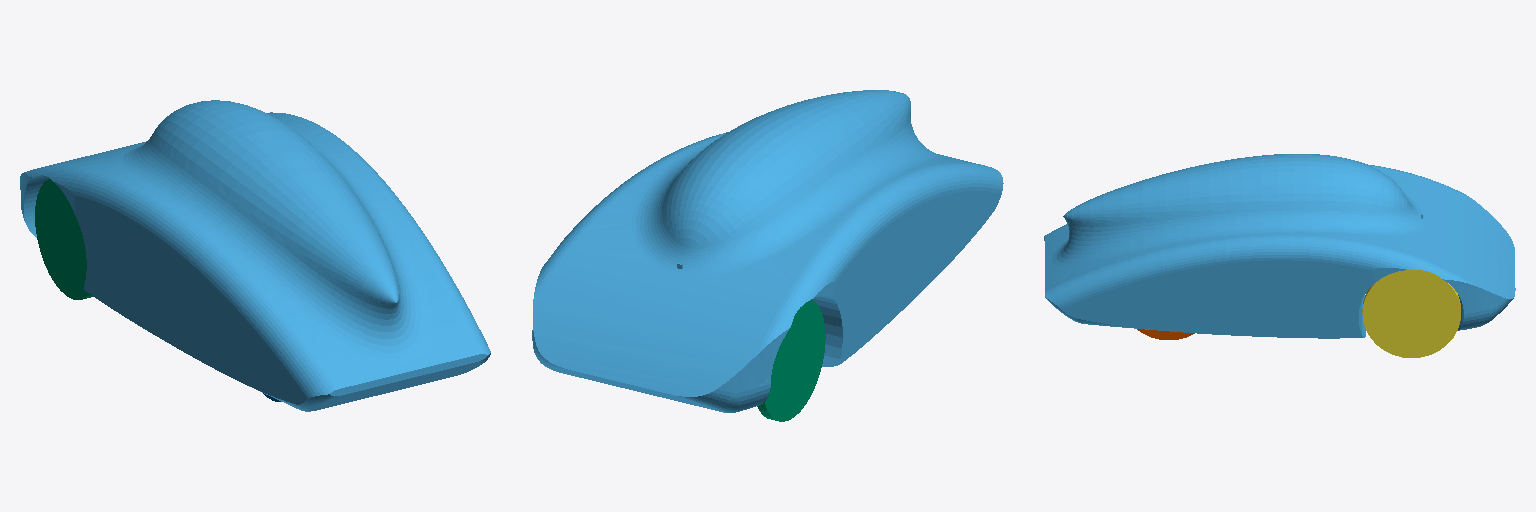
URDF robot description (angelshark):
<?xml version="1.0" ?>
<robot name="angelshark">
  
  <link name="pars__base_link"></link>
  <link name="pars__body">
    <inertial>
      <mass value="92.0"/>
      <origin rpy="0 0 0" xyz="0  0  0.6"/>
      <inertia ixx="0.7" ixy="0" ixz="0" iyy="0.2" iyz="0" izz="0.8"/>
    </inertial>
    <collision name="pars__base_link_inertia_collision">
      <origin rpy="0 0 1.5707" xyz="0   0   0.13"/>
      <geometry>
        <mesh filename="package://angelshark_sim/models/angelshark/meshes/pars.stl" scale="0.16 0.16 0.16"/>
      </geometry>
    </collision>
    <visual name="pars__base_link_inertia_visual">
      <origin rpy="0 0 1.5707" xyz="0   0   0.13"/>
      <geometry>
        <mesh filename="package://angelshark_sim/models/angelshark/meshes/pars.stl" scale="0.16 0.16 0.16"/>
      </geometry>
    </visual>
  </link>
  <link name="pars__front_left_wheel">
    <inertial>
      <mass value="1.0"/>
      <origin rpy="0 0 0" xyz="0 0 0"/>
      <inertia ixx="0.03" ixy="0.00" ixz="0.00" iyy="0.03" iyz="0.00" izz="0.058"/>
    </inertial>
    <collision name="pars__collision">
      <origin rpy="0 0 0" xyz="0 0 0"/>
      <geometry>
        <cylinder length=".05" radius=".2932"/>
      </geometry>
    </collision>
    <visual name="pars__visual">
      <origin rpy="0 0 0" xyz="0 0 0"/>
      <geometry>
        <cylinder length=".05" radius=".2932"/>
      </geometry>
    </visual>
  </link>
  <link name="pars__front_right_wheel">
    <inertial>
      <mass value="1.0"/>
      <origin rpy="0 0 0" xyz="0 0 0"/>
      <inertia ixx="0.03" ixy="0.00" ixz="0.00" iyy="0.03" iyz="0.00" izz="0.058"/>
    </inertial>
    <collision name="pars__collision">
      <origin rpy="0 0 0" xyz="0 0 0"/>
      <geometry>
        <cylinder length=".05" radius=".2932"/>
      </geometry>
    </collision>
    <visual name="pars__visual">
      <origin rpy="0 0 0" xyz="0 0 0"/>
      <geometry>
        <cylinder length=".05" radius=".2932"/>
      </geometry>
    </visual>
  </link>
  <link name="pars__rear_left_wheel">
    <inertial>
      <mass value="2.0"/>
      <origin rpy="0 0 0" xyz="0 0 0"/>
      <inertia ixx="0.03" ixy="0.00" ixz="0.00" iyy="0.03" iyz="0.00" izz="0.058"/>
    </inertial>
    <collision name="pars__collision">
      <origin rpy="0 0 0" xyz="0 0 0"/>
      <geometry>
        <cylinder length=".05" radius=".2932"/>
      </geometry>
    </collision>
    <visual name="pars__visual">
      <origin rpy="0 0 0" xyz="0 0 0"/>
      <geometry>
        <cylinder length=".05" radius=".2932"/>
      </geometry>
    </visual>
  </link>
  <link name="pars__rear_right_wheel">
    <inertial>
      <mass value="2.0"/>
      <origin rpy="0 0 0" xyz="0 0 0"/>
      <inertia ixx="0.03" ixy="0.00" ixz="0.00" iyy="0.03" iyz="0.00" izz="0.058"/>
    </inertial>
    <collision name="pars__collision">
      <origin rpy="0 0 0" xyz="0 0 0"/>
      <geometry>
        <cylinder length=".05" radius=".2932"/>
      </geometry>
    </collision>
    <visual name="pars__visual">
      <origin rpy="0 0 0" xyz="0 0 0"/>
      <geometry>
        <cylinder length=".05" radius=".2932"/>
      </geometry>
    </visual>
  </link>
  <link name="pars__FLwheel_steer">
    <inertial>
      <mass value="1.0"/>
      <origin rpy="0 0 0" xyz="0 0 0"/>
      <inertia ixx="0.03" ixy="0.00" ixz="0.00" iyy="0.03" iyz="0.00" izz="0.058"/>
    </inertial>
  </link>
  <link name="pars__FRwheel_steer">
    <inertial>
      <mass value="1.0"/>
      <origin rpy="0 0 0" xyz="0 0 0"/>
      <inertia ixx="0.03" ixy="0.00" ixz="0.00" iyy="0.03" iyz="0.00" izz="0.058"/>
    </inertial>
  </link>
  <!-- Laser scanner -->
  <link name="laser">
    <inertial>
      <mass value="0.130" />
      <origin xyz="0 0 0" rpy="0 0 0" />
      <inertia ixx="4E-06" ixy="0" ixz="0" iyy="4E-06" iyz="0" izz="4E-06" />
    </inertial>
    <collision>
      <origin xyz="0 0 0" rpy="0 0 0"/>
      <geometry>
        <box size="0.1 0.1 0.1"/>
      </geometry>
    </collision>
    <visual>
      <origin xyz="0 0 0" rpy="0 0 0"/>
      <geometry>
        <mesh filename="package://angelshark_sim/models/hokuyo/meshes/hokuyo.dae"/>
        <material name="grey" />
      </geometry>
    </visual>
  </link>
  <!-- Camera -->
  <link name="camera_link">
    <inertial>
      <mass value="1e-5" />
      <origin xyz="0 0 0" rpy="0 0 0"/>
      <inertia ixx="1e-6" ixy="0" ixz="0" iyy="1e-6" iyz="0" izz="1e-6" />
    </inertial>
    <collision>
      <origin xyz="0 0 0" rpy="0 0 0"/>
      <geometry>
        <box size="0.009 0.023 0.023"/>
      </geometry>
    </collision>
    <visual>
      <origin xyz="0 0 0" rpy="0 0 0"/>
      <geometry>
        <box size="0.009 0.023 0.023"/>
      </geometry>
      <material name="green"/>
    </visual>
  </link>
  
  <joint name="pars__base_joint" type="fixed">
    <parent link="pars__base_link"/>
    <child link="pars__body"/>
    <origin xyz="0.0 0.0 0.0" rpy="0 0 0"/>
    <axis xyz="0 1 0" />
  </joint>
  <joint name="pars__jFRsteer" type="revolute">
    <parent link="pars__body"/>
    <child link="pars__FRwheel_steer"/>
    <origin rpy="0     1.5707 0" xyz="0.55 0.74 0.3"/>
    <axis xyz="1 0 0"/>
    <limit effort="10.0" lower="-0.5235987756" upper="0.5235987756" velocity="30"/>
  </joint>
  <joint name="pars__jFLsteer" type="revolute">
    <parent link="pars__body"/>
    <child link="pars__FLwheel_steer"/>
    <origin rpy="0     1.5707 0" xyz="-0.55  0.74  0.3"/>
    <axis xyz="1 0 0"/>
    <limit effort="10.0" lower="-0.5235987756" upper="0.5235987756" velocity="30"/>
  </joint>
  <joint name="pars__jFR" type="continuous">
    <parent link="pars__FRwheel_steer"/>
    <child link="pars__front_right_wheel"/>
    <origin rpy="0 0 0" xyz="0 0 0"/>
    <axis xyz="0 0 -1"/>
    <limit effort="1000" velocity="30"/>
  </joint>
  <joint name="pars__jFL" type="continuous">
    <parent link="pars__FLwheel_steer"/>
    <child link="pars__front_left_wheel"/>
    <origin rpy="0 0 0" xyz="0 0 0"/>
    <axis xyz="0 0 -1"/>
    <limit effort="1000" velocity="30"/>
  </joint>
  <joint name="pars__jRR" type="continuous">
    <parent link="pars__body"/>
    <child link="pars__rear_right_wheel"/>
    <origin rpy="0     1.5707 0" xyz="0.3 -0.7  0.3"/>
    <axis xyz="0 0 -1"/>
    <limit effort="1000" velocity="30"/>
  </joint>
  <joint name="pars__jRL" type="continuous">
    <parent link="pars__body"/>
    <child link="pars__rear_left_wheel"/>
    <origin rpy="0     1.5707 0" xyz="-0.3 -0.7  0.3"/>
    <axis xyz="0 0 -1"/>
    <limit effort="1000" velocity="30"/>
  </joint>
  <joint name="hokuyo_joint" type="fixed">
    <parent link="pars__body" />
    <child link="laser" />
    <origin xyz="0.0 1.27 0.4" rpy="0 0 1.5707963268"/>
    <axis xyz="0 0 1" />
  </joint>
  <joint name="camera_joint" type="fixed">
    <parent link="pars__body"/>
    <child link="camera_link"/>
    <origin xyz="0.0 0.8 0.67" rpy="0 0 1.5707963268"/>
    <axis xyz="0 1 0" />
  </joint>
  
  <!--                GAZEBO RELATED PART                             -->
  <!-- ROS plugins for Gazebo -->
  <gazebo>
    <plugin name="gazebo_ros_control" filename="libgazebo_ros_control.so">
      <robotNamespace>/angelshark</robotNamespace>
      <robotSimType>gazebo_ros_control/DefaultRobotHWSim</robotSimType>
    </plugin>
    <plugin name="imu_plugin" filename="libgazebo_ros_imu.so">
      <alwaysOn>true</alwaysOn>
      <bodyName>pars__body</bodyName>
      <topicName>angelshark/imu</topicName>
      <serviceName>imu_service</serviceName>
      <gaussianNoise>0.0</gaussianNoise>
      <updateRate>20.0</updateRate>
    </plugin>
  </gazebo>
  <gazebo reference="laser">
    <material>Gazebo/Black</material>
    <sensor type="ray" name="hokuyo_sensor">
      <pose>0 0 0.0124 0 0 0</pose>
      <visualize>false</visualize>
      <update_rate>10</update_rate>
      <ray>
        <scan>
          <horizontal>
            <samples>190</samples>
            <resolution>1</resolution>
            <min_angle>-1.6580627894</min_angle>
            <max_angle>1.6580627894</max_angle>
          </horizontal>
        </scan>
        <range>
          <min>0.15</min>
          <max>12.0</max>
          <resolution>0.01</resolution>
        </range>
        <noise>
          <mean>0.0</mean>
          <stddev>0.01</stddev>
        </noise>
      </ray>
      <plugin name="gazebo_ros_hokuyo_controller" filename="libgazebo_ros_laser.so">
        <topicName>/angelshark/scan</topicName>
        <frameName>laser</frameName>
      </plugin>
    </sensor>
  </gazebo>
  <gazebo reference="camera_link">
    <sensor type="camera" name="camera1">
      <visualize>false</visualize>
      <update_rate>30.0</update_rate>
      <camera name="head">
        <horizontal_fov>1,[number redacted]</horizontal_fov>
        <image>
          <width>640</width>
          <height>480</height>
          <format>R8G8B8</format>
        </image>
        <clip>
          <near>0.02</near>
          <far>300</far>
        </clip>
        <noise>
          <type>gaussian</type>
          <!-- Noise is sampled independently per pixel on each frame.
               That pixel's noise value is added to each of its color
               channels, which at that point lie in the range [0,1]. -->
          <mean>0.0</mean>
          <stddev>0.007</stddev>
        </noise>
      </camera>
      <plugin name="camera_controller" filename="libgazebo_ros_camera.so">
        <alwaysOn>true</alwaysOn>
        <updateRate>0.0</updateRate>
        <cameraName>angelshark/camera</cameraName>
        <imageTopicName>image_raw</imageTopicName>
        <cameraInfoTopicName>camera_info</cameraInfoTopicName>
        <frameName>camera_link</frameName>
        <hackBaseline>0.07</hackBaseline>
        <distortionK1>0.0</distortionK1>
        <distortionK2>0.0</distortionK2>
        <distortionK3>0.0</distortionK3>
        <distortionT1>0.0</distortionT1>
        <distortionT2>0.0</distortionT2>
      </plugin>
    </sensor>
  </gazebo>
  
  <transmission name="FRsteer_transmission" type="SimpleTransmission">
    <type>transmission_interface/SimpleTransmission</type>
    <actuator name="FRsteerMotor">
      <hardwareInterface>hardware_interface/EffortJointInterface</hardwareInterface>
      <mechanicalReduction>1</mechanicalReduction>
    </actuator>
    <joint name="pars__jFRsteer">
      <hardwareInterface>hardware_interface/EffortJointInterface</hardwareInterface>
    </joint>
  </transmission>
  <transmission name="FLsteer_transmission" type="SimpleTransmission">
    <type>transmission_interface/SimpleTransmission</type>
    <actuator name="FLsteerMotor">
      <hardwareInterface>hardware_interface/EffortJointInterface</hardwareInterface>
      <mechanicalReduction>1</mechanicalReduction>
    </actuator>
    <joint name="pars__jFLsteer">
      <hardwareInterface>hardware_interface/EffortJointInterface</hardwareInterface>
    </joint>
  </transmission>
  
  <transmission name="FR_transmission" type="SimpleTransmission">
    <type>transmission_interface/SimpleTransmission</type>
    <actuator name="FRMotor">
      <hardwareInterface>hardware_interface/EffortJointInterface</hardwareInterface>
      <mechanicalReduction>1</mechanicalReduction>
    </actuator>
    <joint name="pars__jFR">
      <hardwareInterface>hardware_interface/EffortJointInterface</hardwareInterface>
    </joint>
  </transmission>
  <transmission name="FL_transmission" type="SimpleTransmission">
    <type>transmission_interface/SimpleTransmission</type>
    <actuator name="FLMotor">
      <hardwareInterface>hardware_interface/EffortJointInterface</hardwareInterface>
      <mechanicalReduction>1</mechanicalReduction>
    </actuator>
    <joint name="pars__jFL">
      <hardwareInterface>hardware_interface/EffortJointInterface</hardwareInterface>
    </joint>
  </transmission>
  <transmission name="RR_transmission" type="SimpleTransmission">
    <type>transmission_interface/SimpleTransmission</type>
    <actuator name="RRMotor">
      <hardwareInterface>hardware_interface/EffortJointInterface</hardwareInterface>
      <mechanicalReduction>1</mechanicalReduction>
    </actuator>
    <joint name="pars__jRR">
      <hardwareInterface>hardware_interface/EffortJointInterface</hardwareInterface>
    </joint>
  </transmission>
  <transmission name="RL_transmission" type="SimpleTransmission">
    <type>transmission_interface/SimpleTransmission</type>
    <actuator name="RLMotor">
      <hardwareInterface>hardware_interface/EffortJointInterface</hardwareInterface>
      <mechanicalReduction>1</mechanicalReduction>
    </actuator>
    <joint name="pars__jRL">
      <hardwareInterface>hardware_interface/EffortJointInterface</hardwareInterface>
    </joint>
  </transmission>
  
</robot>

--- Render facts (derived) ---
Views: 3 orthographic renders of the robot side by side, from view 1: azimuth 30°, elevation 25°; view 2: azimuth 150°, elevation 25°; view 3: azimuth 270°, elevation 25°.
Robot: angelshark — 10 links, 9 joints (2 revolute, 4 continuous, 3 fixed); root link pars__base_link; default pose: all joints at 0.
Links seen in each view (by area): view 1: pars__body, pars__front_left_wheel; view 2: pars__body, pars__front_left_wheel; view 3: pars__body, pars__front_right_wheel.
Boxes of the visible links, <box> form: pars__body: <box>20,100,490,411</box>; pars__front_left_wheel: <box>35,179,92,299</box>; pars__body: <box>532,90,1003,412</box>; pars__front_left_wheel: <box>757,300,825,421</box>; pars__body: <box>1044,154,1515,338</box>; pars__front_right_wheel: <box>1362,270,1460,357</box>.
Bounding box of the posed robot: 1.32 × 2.79 × 1.03 m (x, y, z).
Meshes: 2 distinct files referenced, 1 mesh visuals loaded (1 binary STL); not drawn: 1 (reference not matched to a file when rendering).
